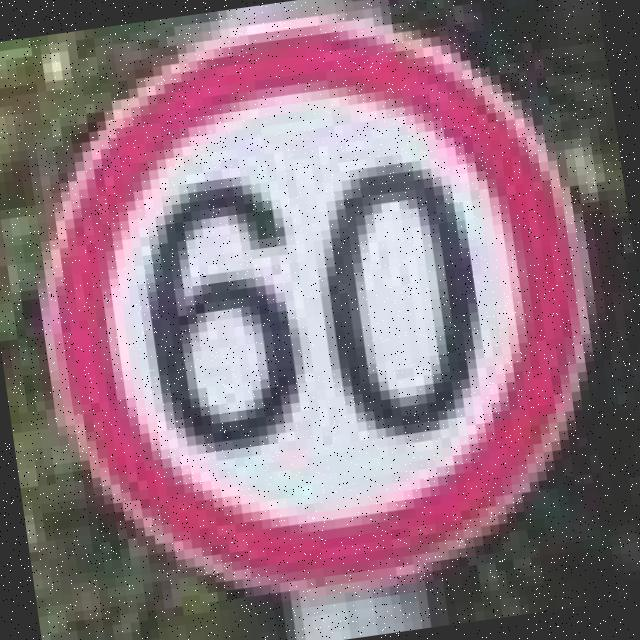Ograniczenie predkosci do 60: (0, 0, 621, 630)
